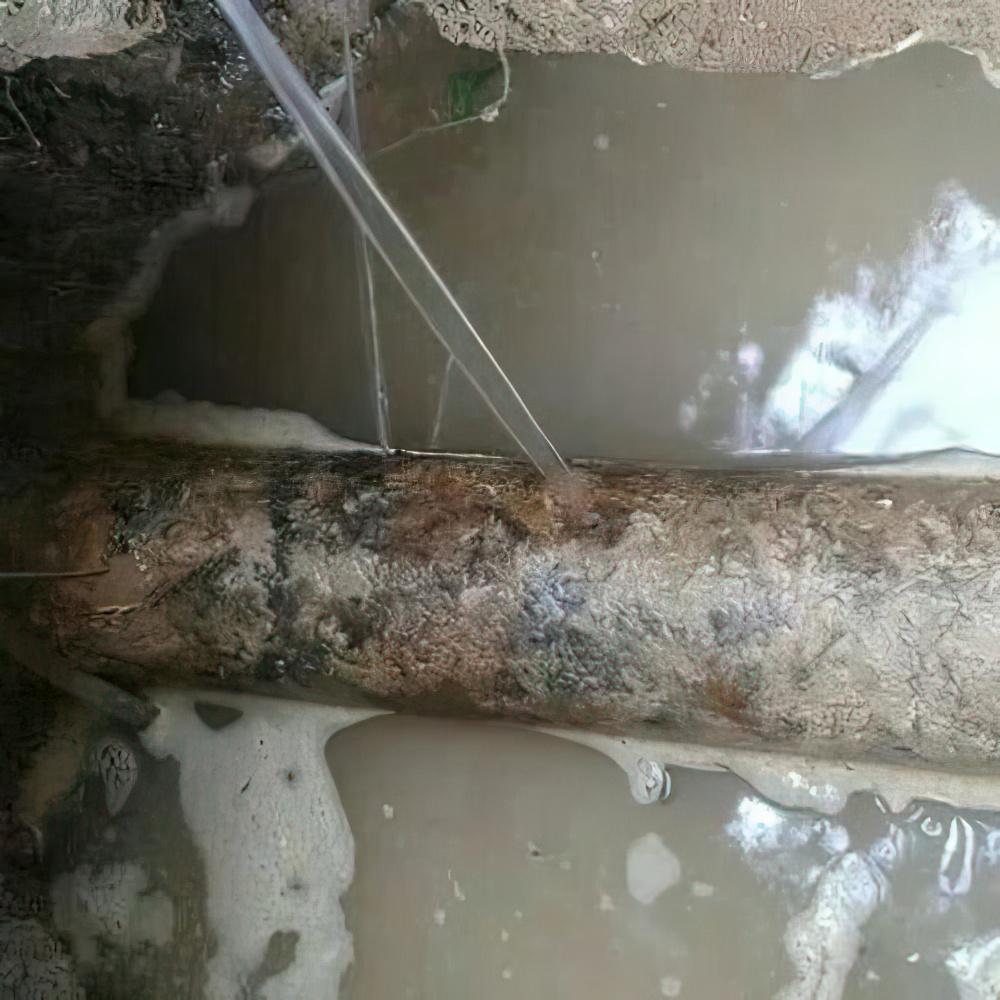pipe burst: (204, 0, 574, 478)
water accumulation: (0, 0, 1000, 1000)
